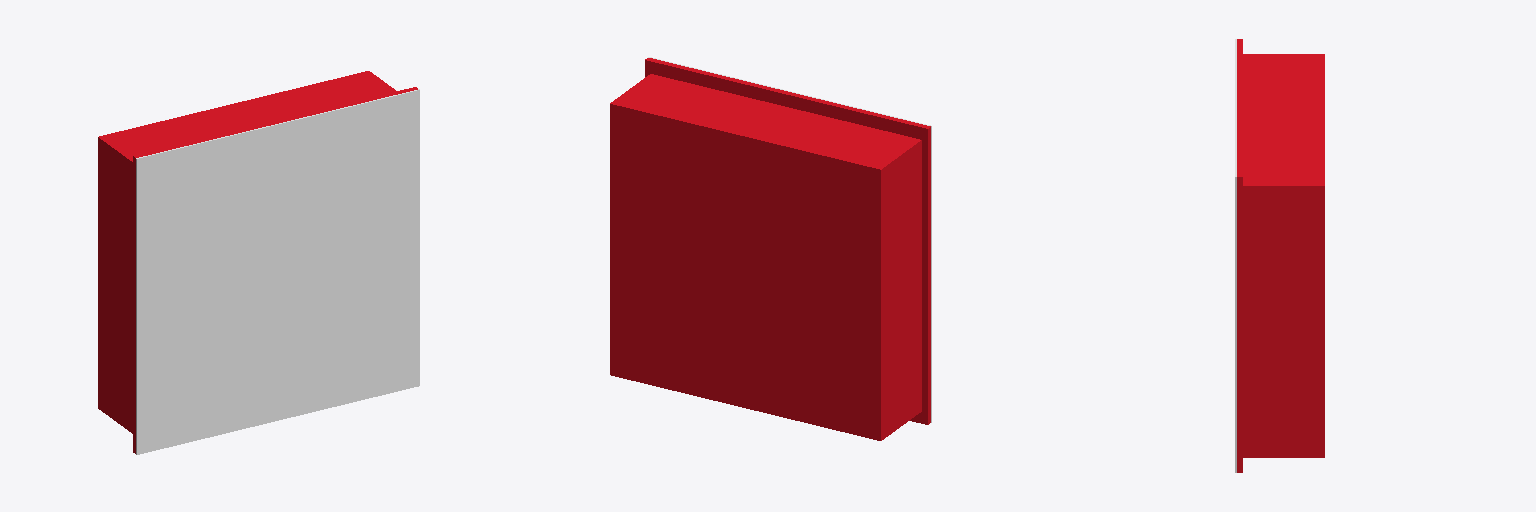
The model's file is tinker.obj.
3 views of the same model, side by side, from view 1: azimuth 30°, elevation 25°; view 2: azimuth 150°, elevation 25°; view 3: azimuth 270°, elevation 25° (orthographic).
Parts seen in each view (by area): view 1: obj_0; view 2: obj_0; view 3: obj_0.
Part boxes in pixels (bbox=[...]): obj_0: bbox=[98, 71, 419, 454]; obj_0: bbox=[610, 57, 931, 440]; obj_0: bbox=[1235, 39, 1324, 472].
Size of the model in its own units: 610 by 610 by 168.